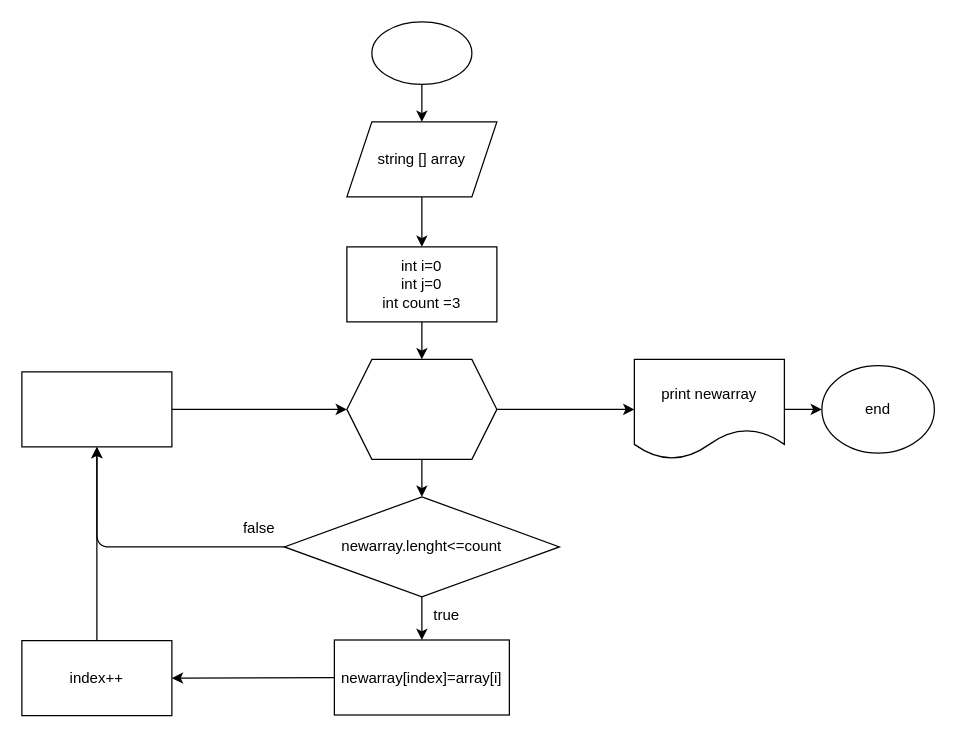
This 956x738 diagram has some shape labels left out. The centre of each missing label's shape, as x and y in pixels:
"i++" goes at (x=96, y=409).
"i=0, i<array.lenght, i++" goes at (x=421, y=408).
"start" goes at (x=421, y=52).
